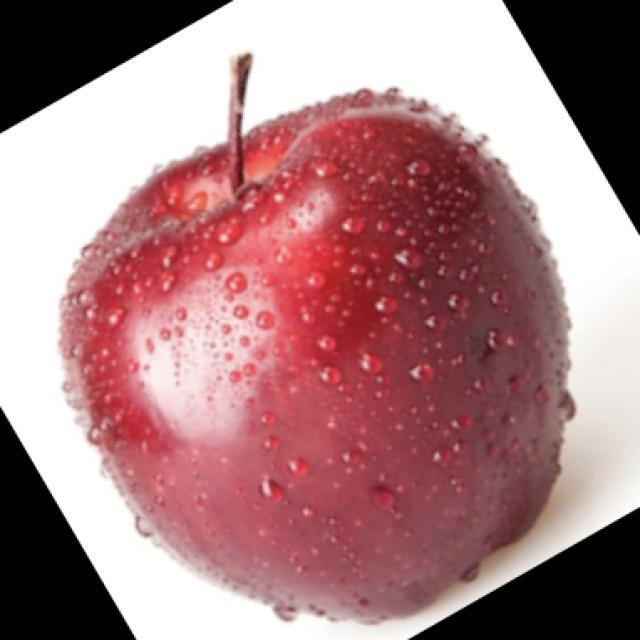Fresh Apple: (45, 69, 595, 626)
